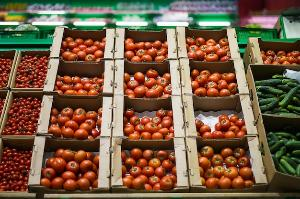cucumber: (262, 116, 300, 184), (252, 68, 300, 117)
tomato: (112, 139, 194, 187), (185, 138, 261, 188), (46, 134, 112, 190), (112, 96, 182, 138), (45, 94, 112, 134), (185, 96, 251, 136), (176, 60, 250, 94), (113, 60, 181, 94), (0, 92, 50, 136), (0, 46, 50, 90), (54, 57, 112, 93), (178, 26, 240, 57), (114, 27, 176, 58), (0, 138, 32, 194), (54, 29, 112, 57), (258, 42, 300, 66)
